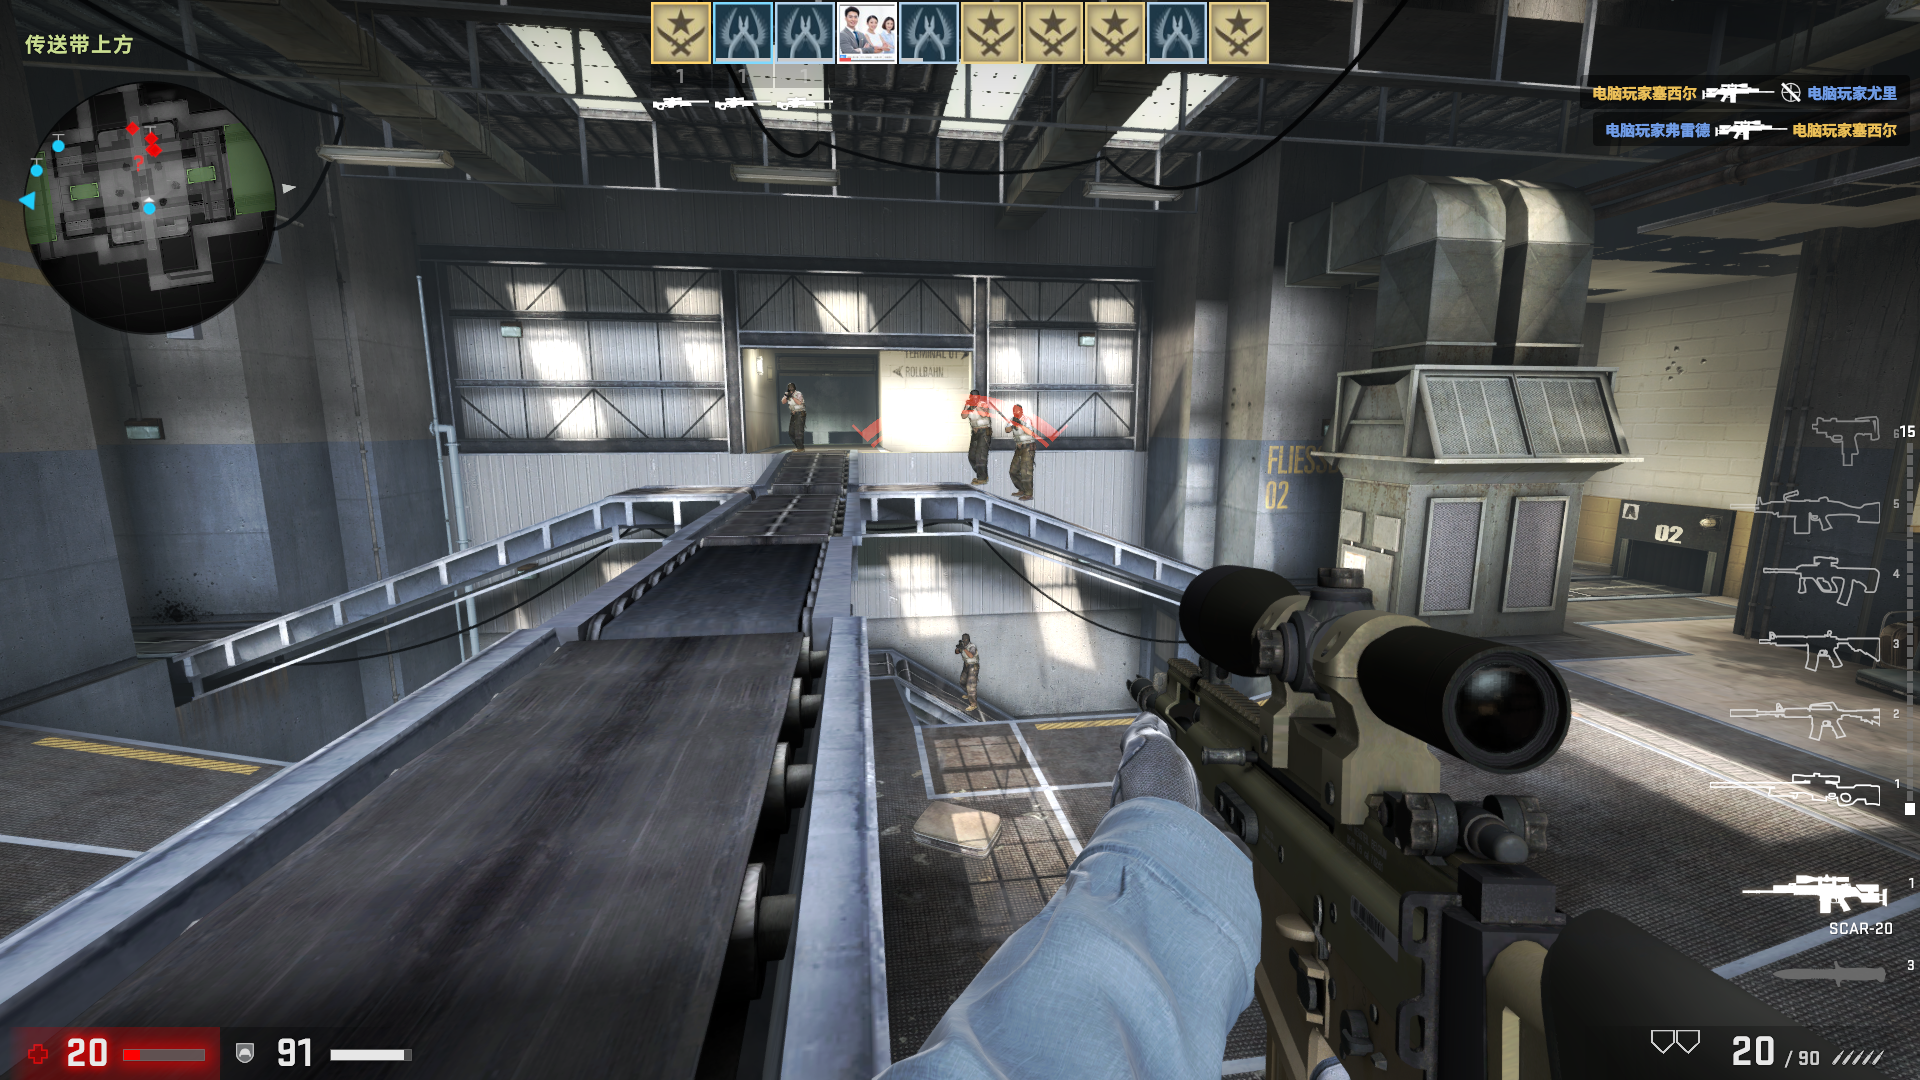person: (999, 405, 1042, 494), (958, 388, 995, 483), (780, 381, 814, 453), (951, 634, 980, 710)
